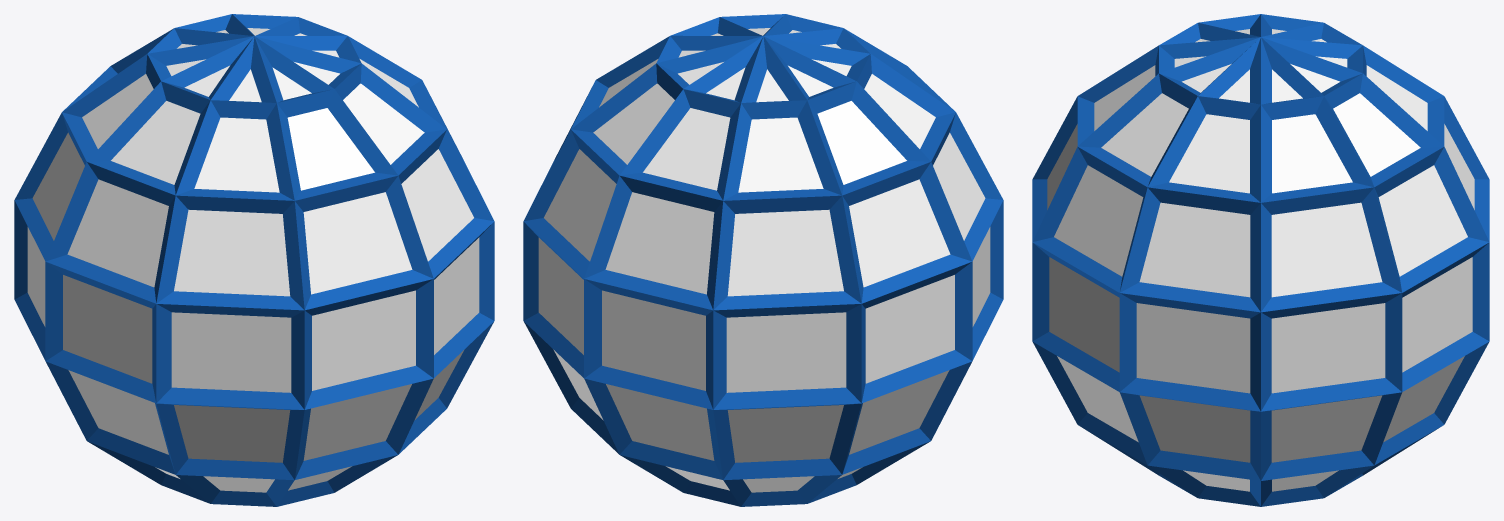
Rendered from globe_with_meridians.glb.
3 views of the same model, side by side, from view 1: azimuth 30°, elevation 25°; view 2: azimuth 150°, elevation 25°; view 3: azimuth 270°, elevation 25° (orthographic).
Visible parts, largest first — view 1: Sphere.395, Sphere.510; view 2: Sphere.395, Sphere.510; view 3: Sphere.395, Sphere.510.
Part boxes in pixels (x1,y1,x2,y2): Sphere.395: (27,28,479,492); Sphere.510: (14,14,494,506); Sphere.395: (538,28,990,492); Sphere.510: (523,14,1003,506); Sphere.395: (1047,29,1474,491); Sphere.510: (1032,14,1489,506).
Size of the model in its own units: 2.04 by 2.09 by 1.94.
1 material, 1 textured.
